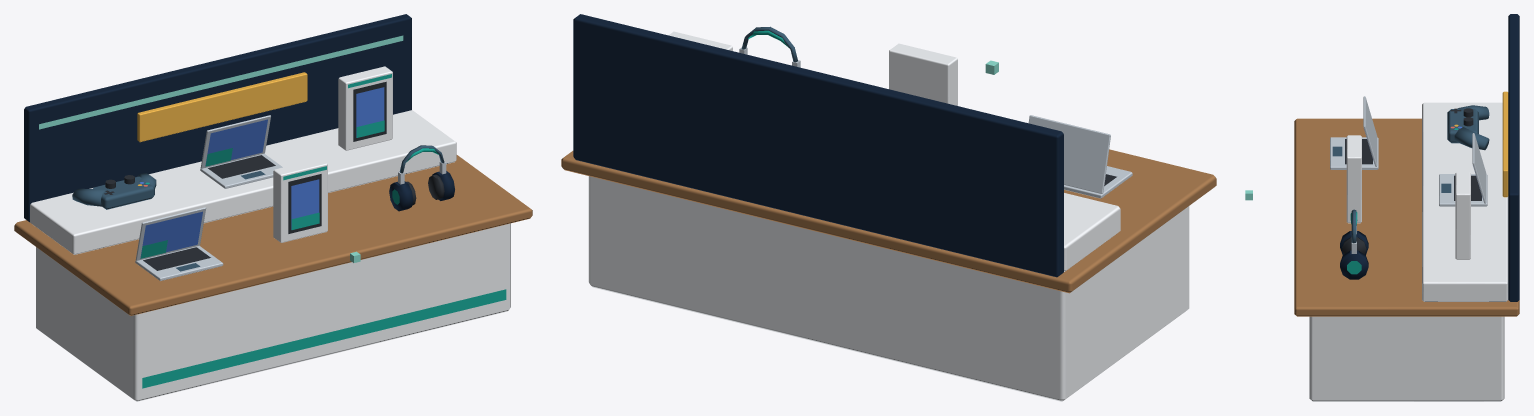
Rendered from CM_Fixture_ElectronicsTable.fbx.
The picture shows the model from 3 angles, left to right: view 1: azimuth 30°, elevation 25°; view 2: azimuth 150°, elevation 25°; view 3: azimuth 270°, elevation 25°; orthographic projection. The views are drawn at different scales.
Visible parts, largest first — view 1: Body, PriceTag, Item1, Item2, Item6, Item5, Item4, Item3; view 2: Body, Item1, Item2, Item3; view 3: Body, Item5, Item1, Item4, Item6, Item3, Item2, PriceTag.
Boxes of the visible parts, box(x1,y1,x2,y2) form: Body: box(14, 14, 532, 401); PriceTag: box(137, 72, 307, 142); Item1: box(135, 207, 223, 280); Item2: box(273, 158, 327, 242); Item6: box(338, 66, 392, 150); Item5: box(200, 115, 282, 188); Item4: box(72, 173, 156, 209); Item3: box(389, 145, 454, 211); Body: box(561, 14, 1216, 401); Item1: box(1028, 115, 1132, 198); Item2: box(889, 43, 957, 105); Item3: box(739, 26, 800, 67); Body: box(1294, 14, 1519, 401); Item5: box(1439, 133, 1487, 206); Item1: box(1330, 96, 1378, 169); Item4: box(1447, 105, 1489, 150); Item6: box(1455, 172, 1470, 259); Item3: box(1340, 209, 1368, 279); Item2: box(1346, 135, 1361, 223); PriceTag: box(1502, 91, 1508, 197).
Bounding box in the file's own units: 12 × 7.3 × 6.2.
1 material, 1 textured.
